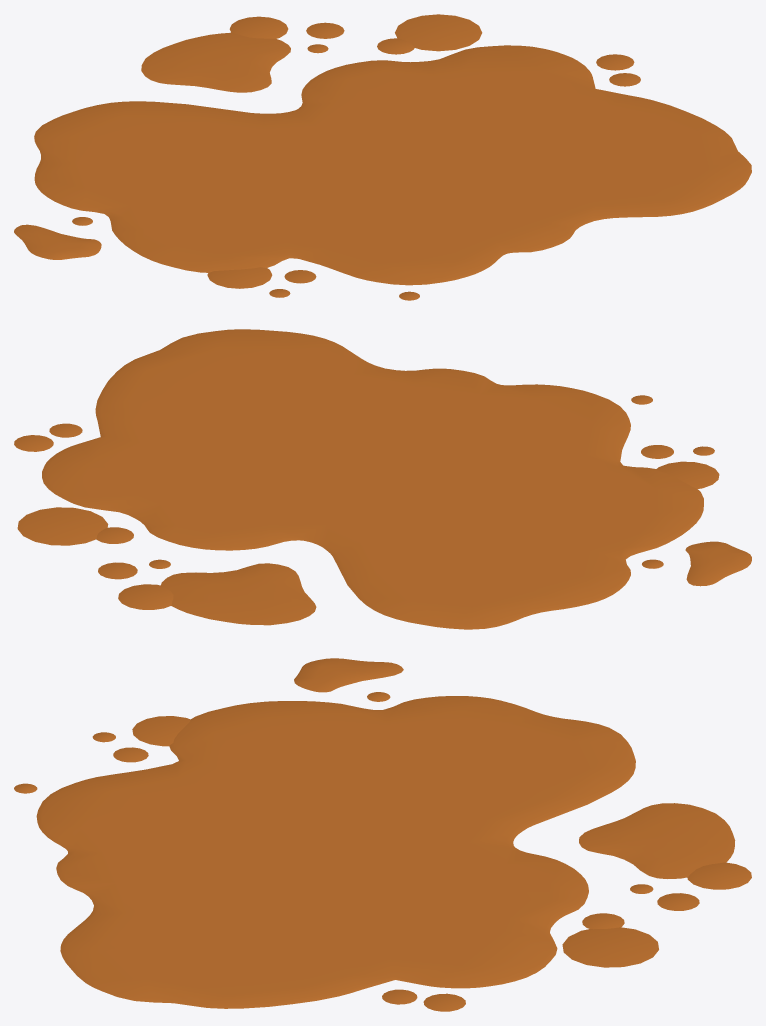
Rendered from art_mudSplatter.fbx.
3 renders of one model, top to bottom at view 1: azimuth 30°, elevation 25°; view 2: azimuth 150°, elevation 25°; view 3: azimuth 270°, elevation 25°, orthographic. The views are drawn at different scales.
Visible parts, largest first — view 1: art_roofOil; view 2: art_roofOil; view 3: art_roofOil.
Part boxes in pixels (bbox=[...]): art_roofOil: bbox=[14, 14, 751, 300]; art_roofOil: bbox=[14, 329, 751, 629]; art_roofOil: bbox=[14, 658, 751, 1011].
Size of the model in its own units: 4620 by 12.17 by 4077.
